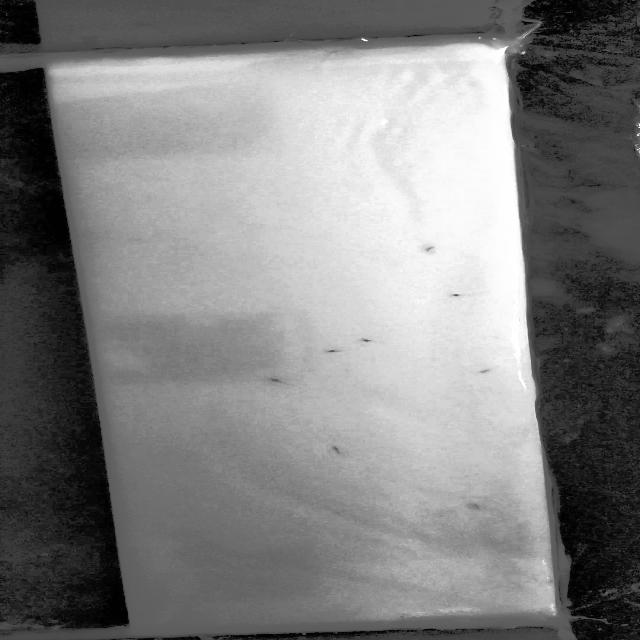shrimp: (444, 290, 480, 300), (270, 376, 297, 388), (354, 335, 382, 345), (322, 347, 351, 356), (472, 364, 496, 374), (327, 442, 343, 454), (421, 247, 442, 254), (471, 505, 490, 512)
